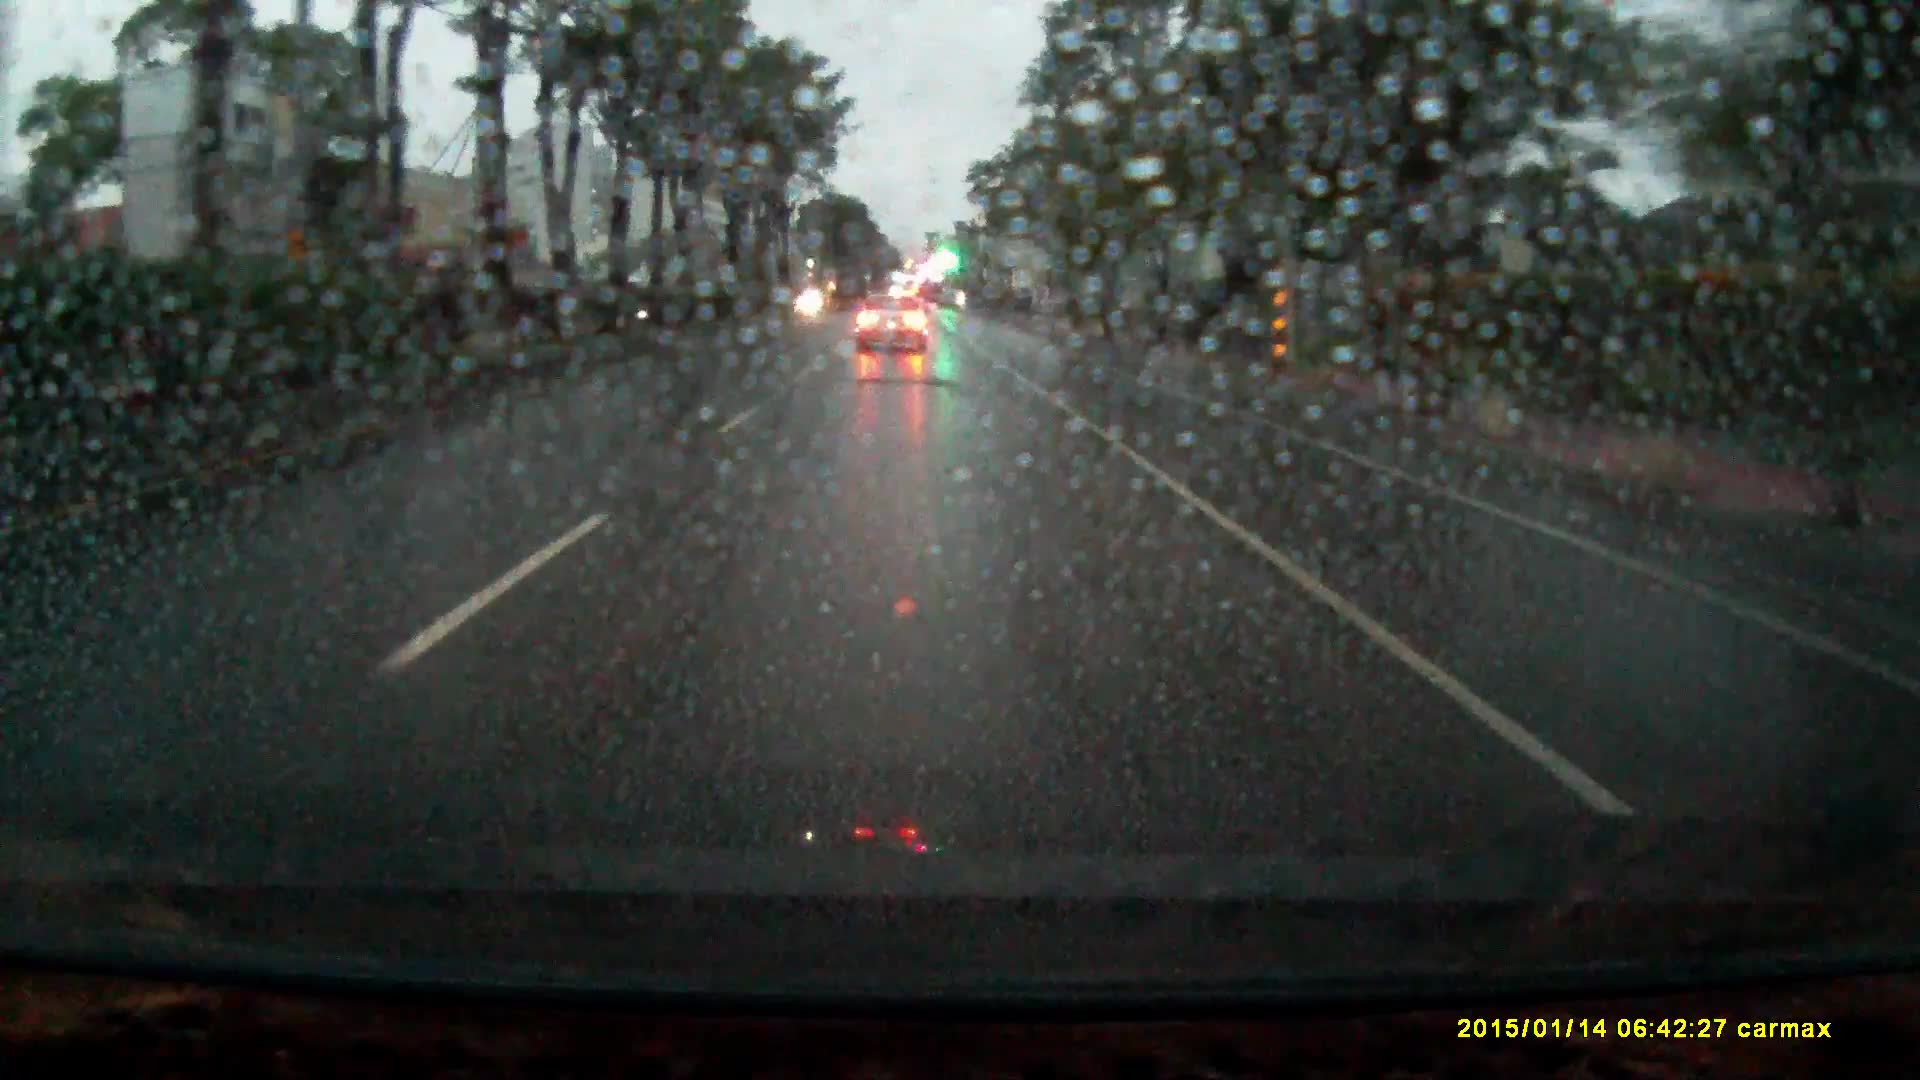vehicle: (855, 295, 928, 353)
